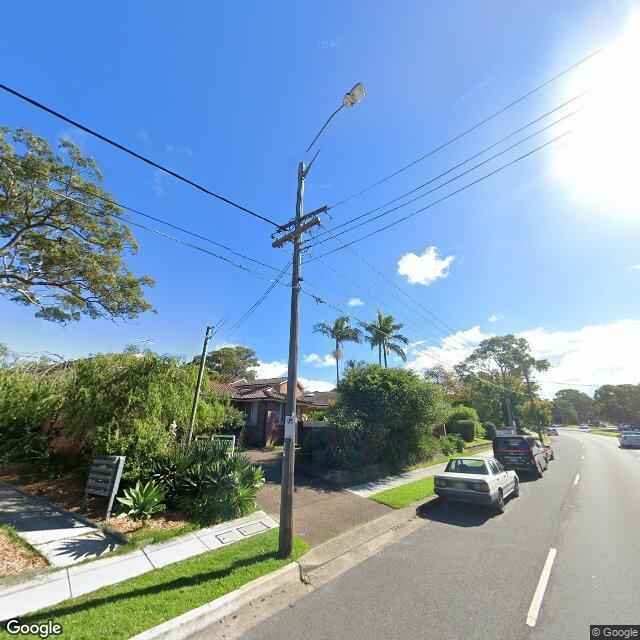crossarm: (271, 217, 322, 250), (278, 204, 330, 232)
steel-pole: (187, 325, 212, 444)
streetlight: (304, 82, 367, 178)
timber-pole: (278, 161, 306, 558)
